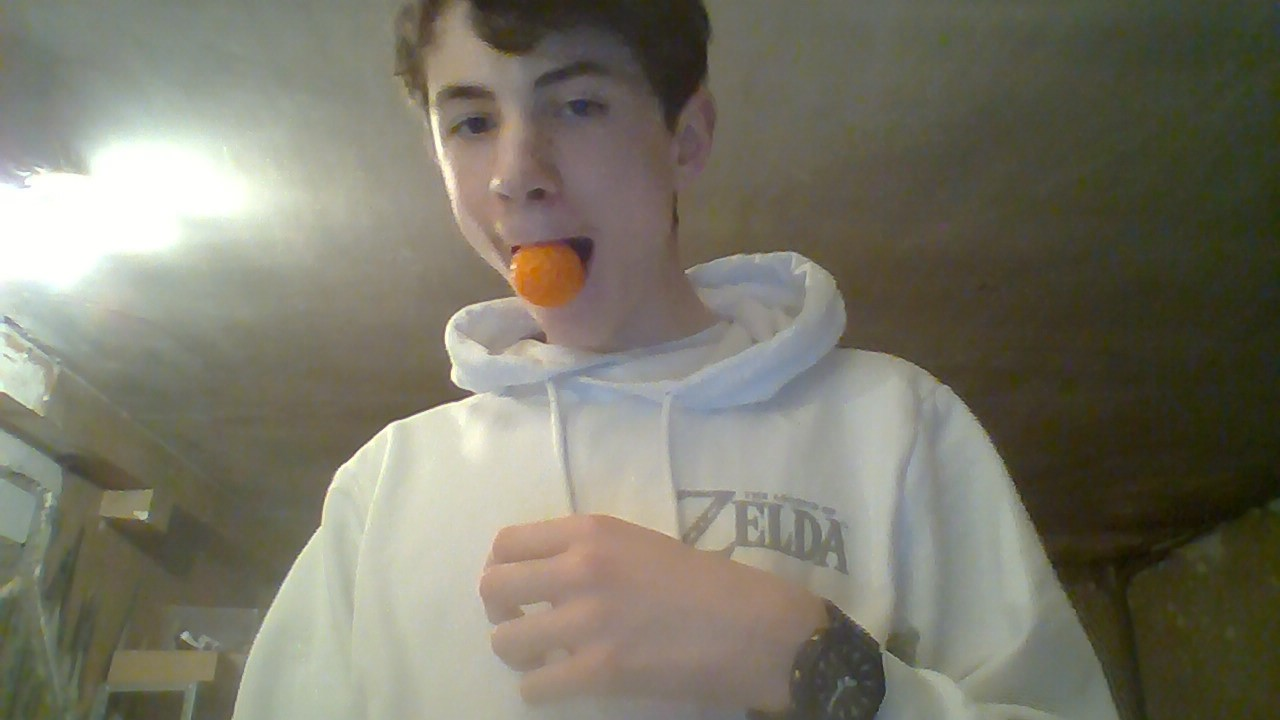ball: (514, 240, 584, 307)
